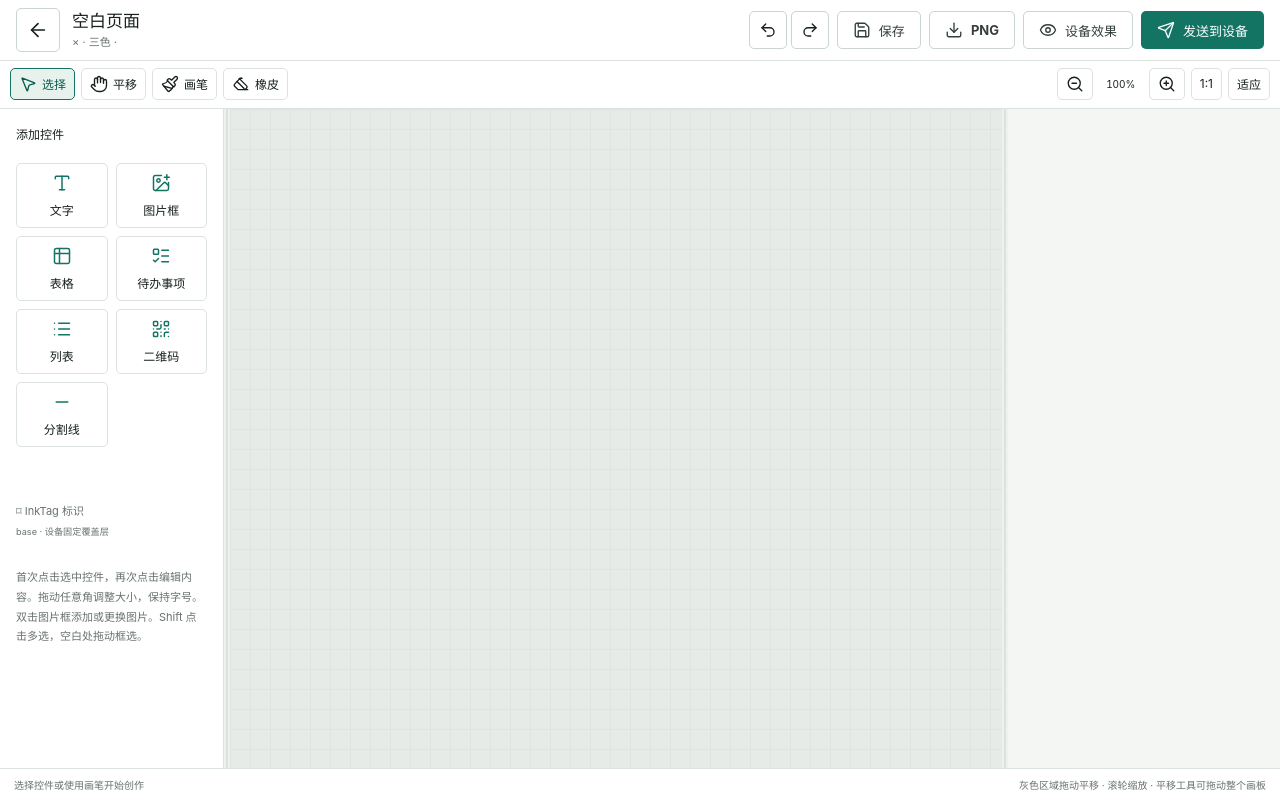
Scenario: opens an informative offline send chooser without saving or attempting BLE
The image size is (1280, 800).
Step 1. Click the button "发送到设备" → click(1202, 30), box [1141,11,1264,49]
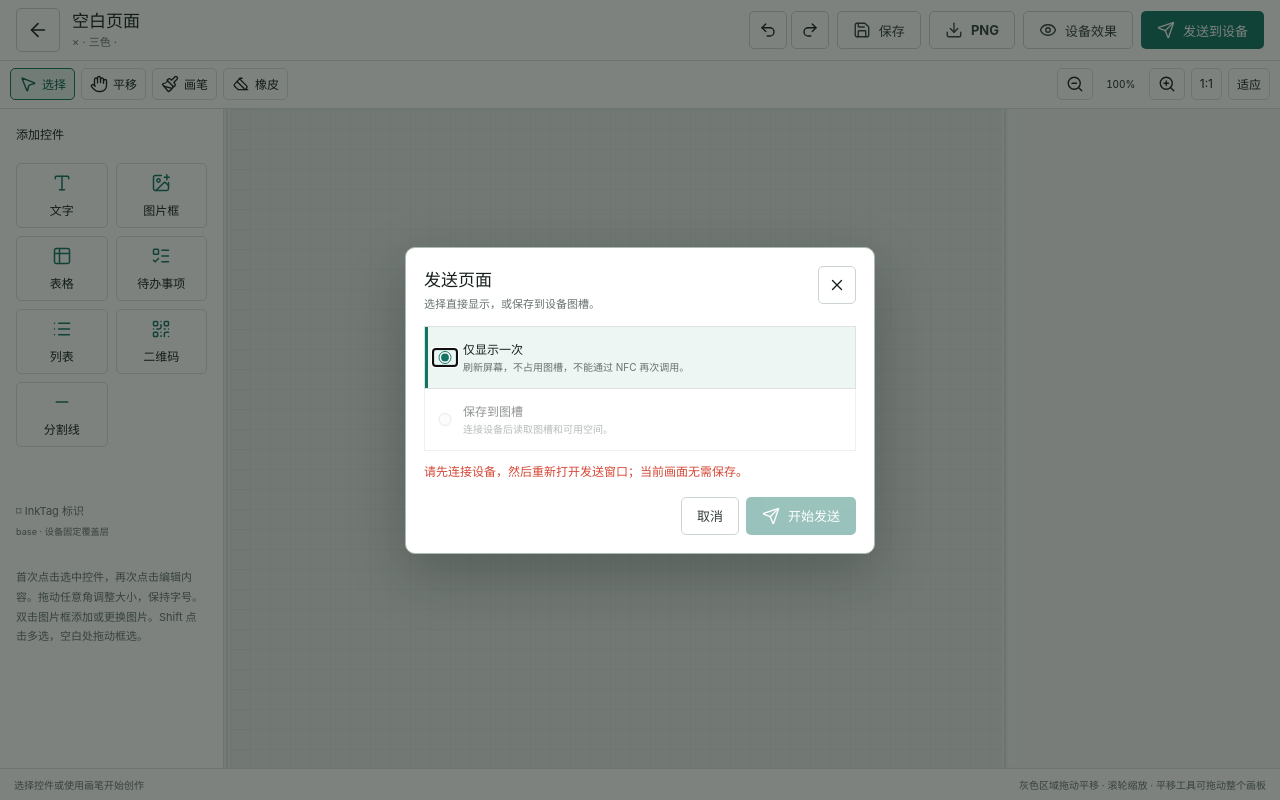
Check: the text "当前画面无需保存" is shown, box [424,464,748,478]
Check: the button "开始发送" is disabled, box [746,496,856,534]
